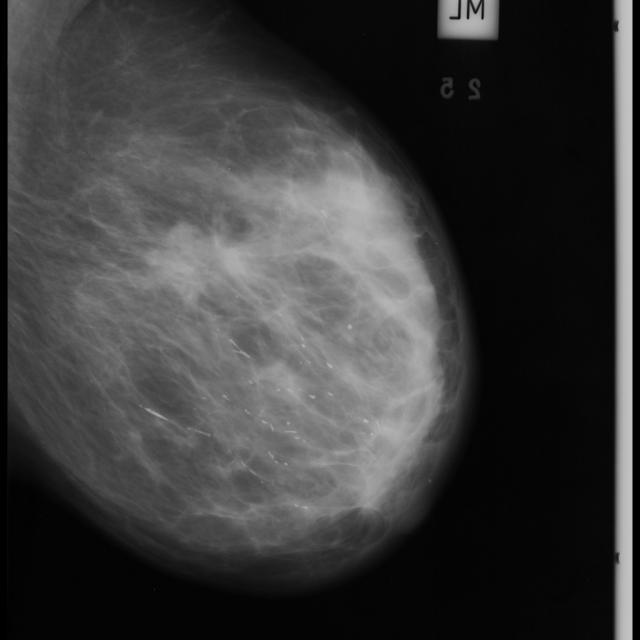SPIC: (95, 152, 313, 369)
